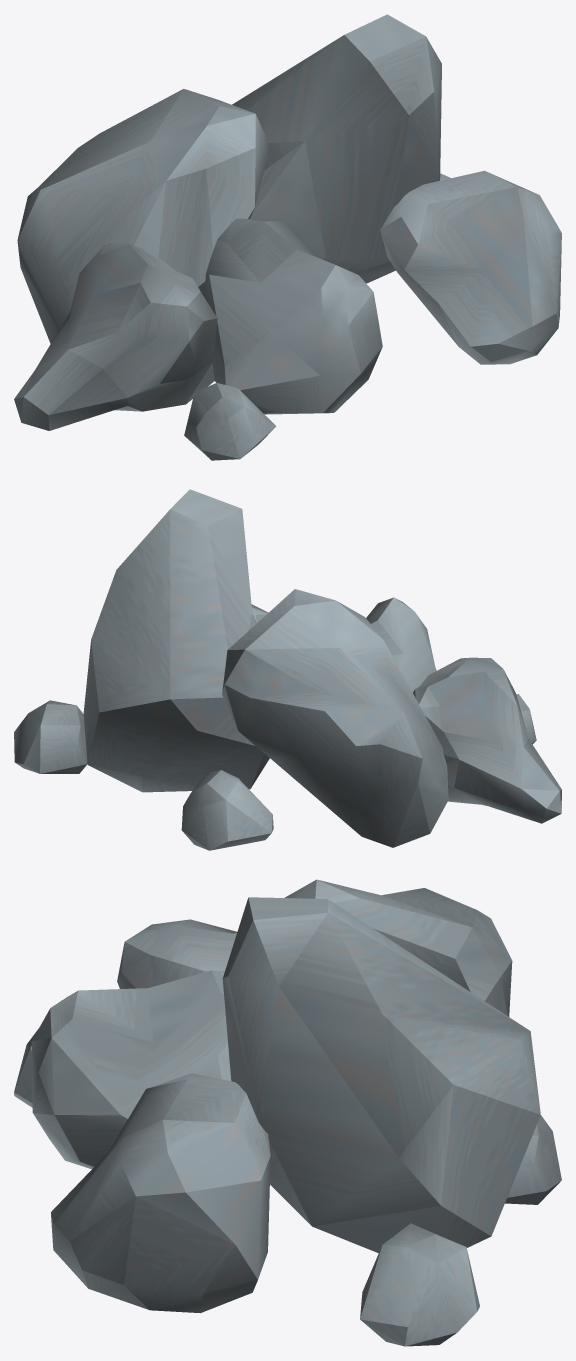
File: Stone_Chunks_Small.gltf
3 views of the same model, one above another, from view 1: azimuth 30°, elevation 25°; view 2: azimuth 150°, elevation 25°; view 3: azimuth 270°, elevation 25° (orthographic). The views are drawn at different scales.
Parts seen in each view (by area): view 1: Stone_Chunks_Small; view 2: Stone_Chunks_Small; view 3: Stone_Chunks_Small.
Boxes of the visible parts, x1=… form: Stone_Chunks_Small: x1=14, y1=14, x2=561, y2=460; Stone_Chunks_Small: x1=14, y1=489, x2=561, y2=850; Stone_Chunks_Small: x1=14, y1=879, x2=561, y2=1346.
Size of the model in its own units: 1.12 by 0.5792 by 0.7861.
1 material, 1 textured.
